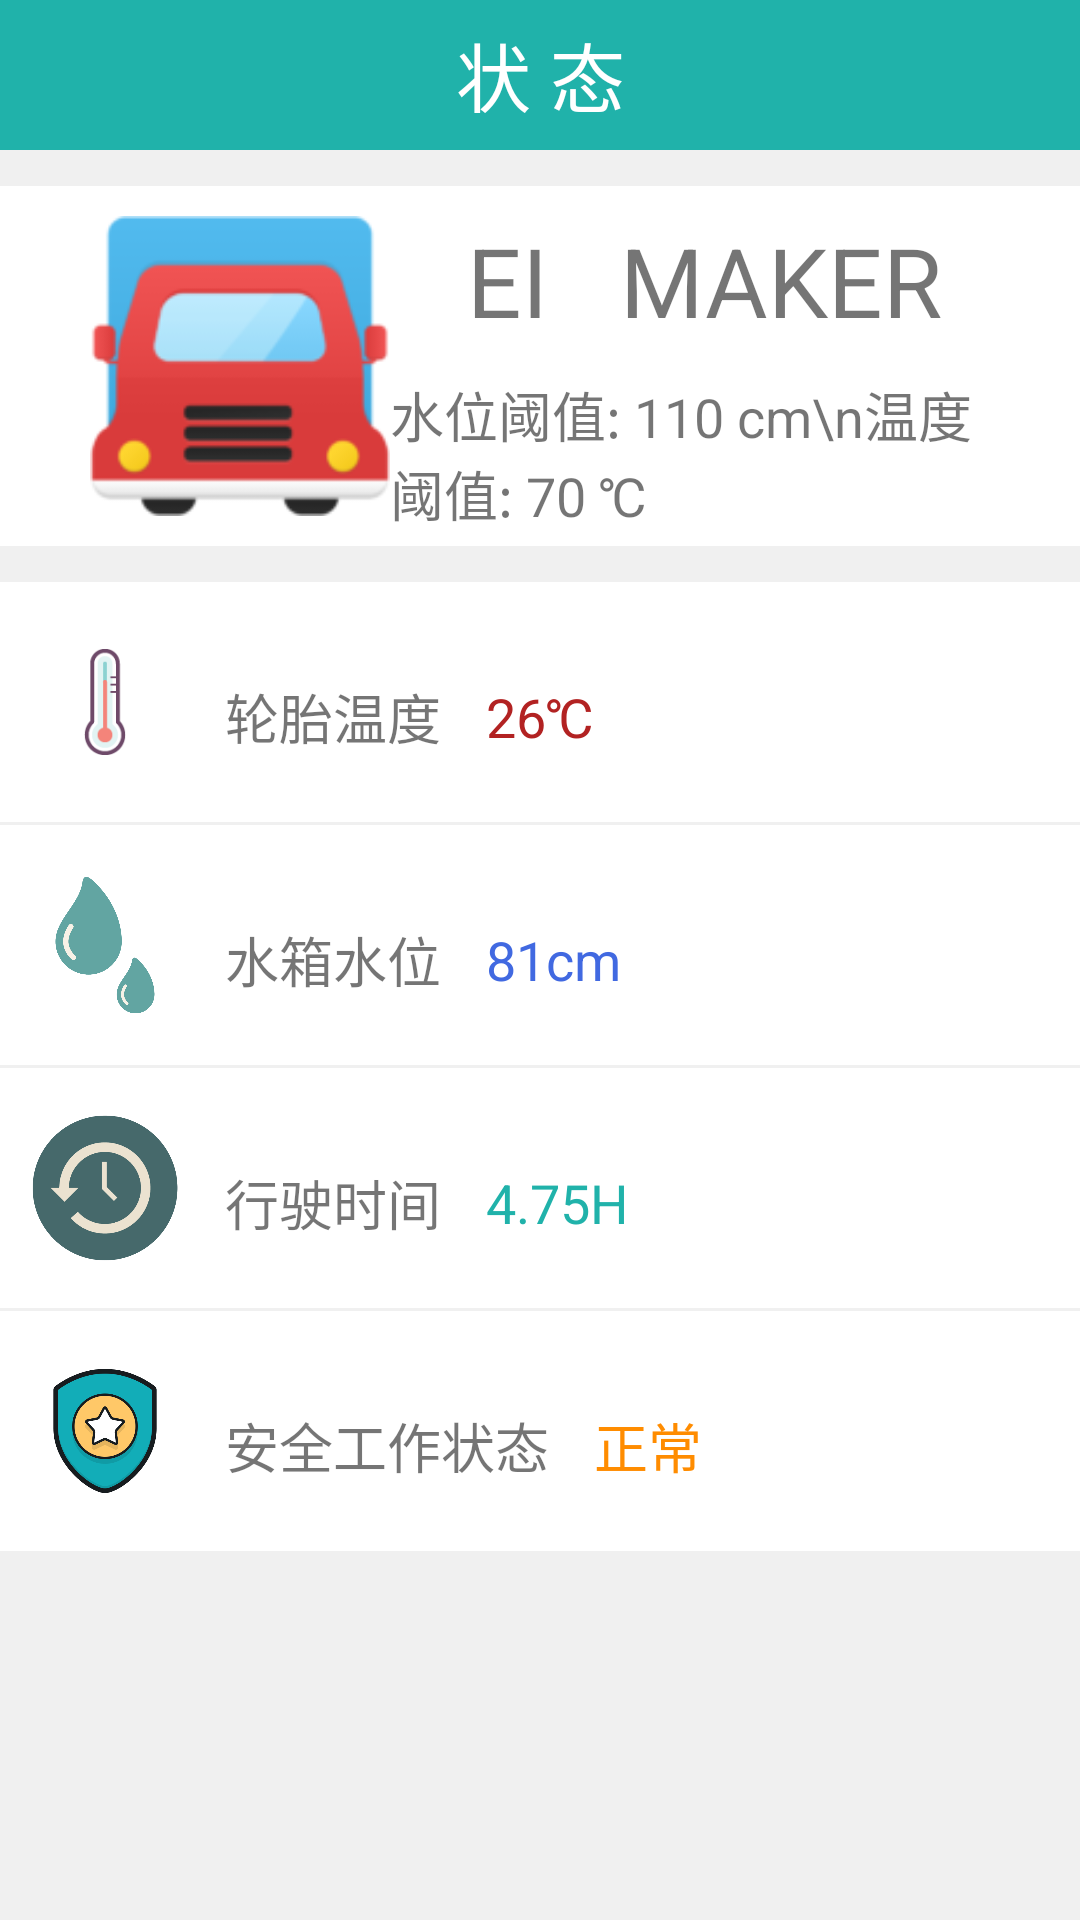

Locate icon controls on the screen. Image size 1080x1920, boxes as (x1, y1, x2, y2).
thermometer: (84, 649, 126, 755)
time: (33, 1116, 178, 1260)
truck: (90, 216, 390, 516)
water: (55, 877, 155, 1013)
